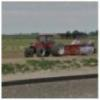tractors: (26, 32, 68, 60)
